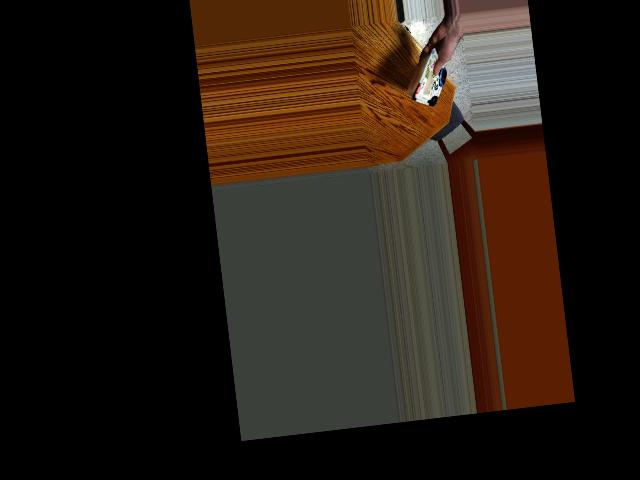cheese: (398, 55, 457, 107)
